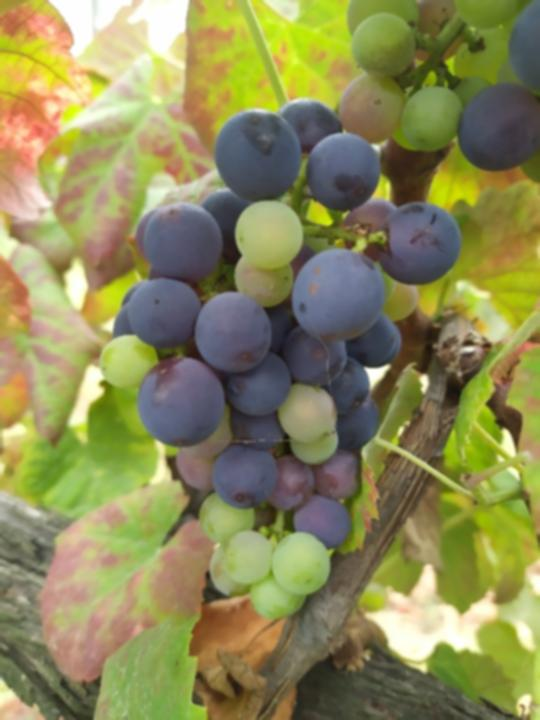grape: (97, 97, 466, 622)
